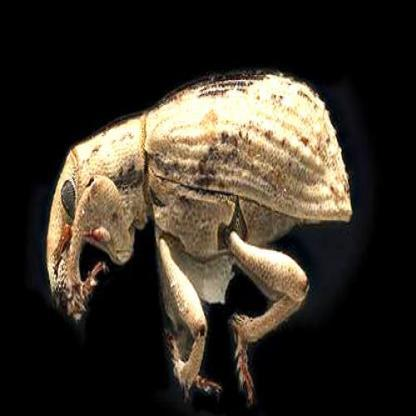rice-bug: (44, 69, 354, 365)
